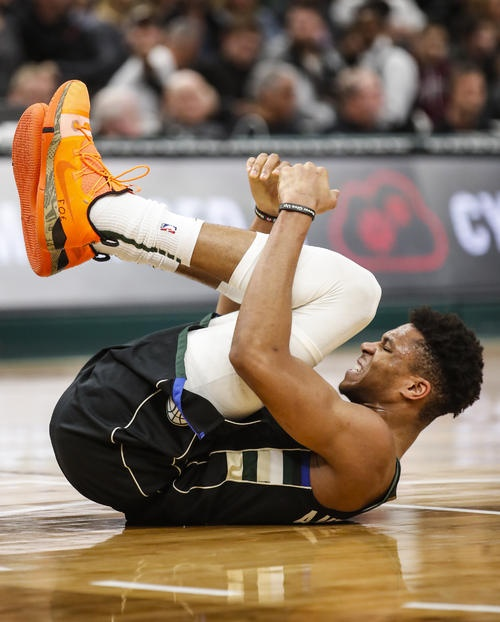falling: (26, 65, 481, 553)
